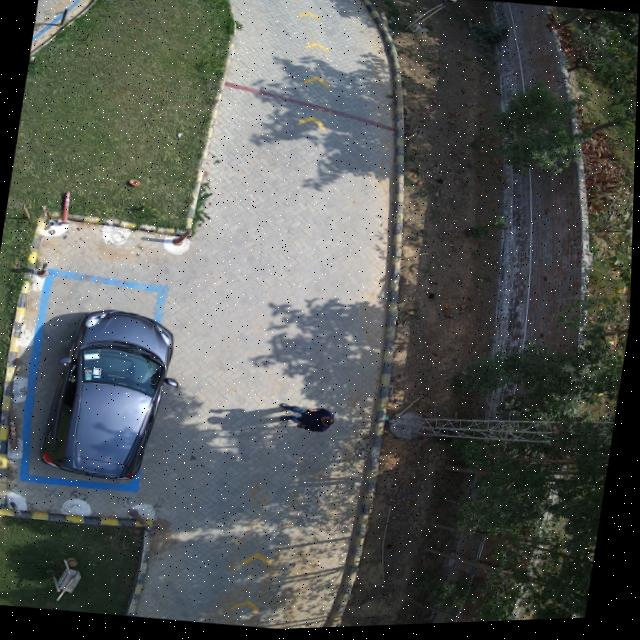car: (39, 309, 178, 481)
